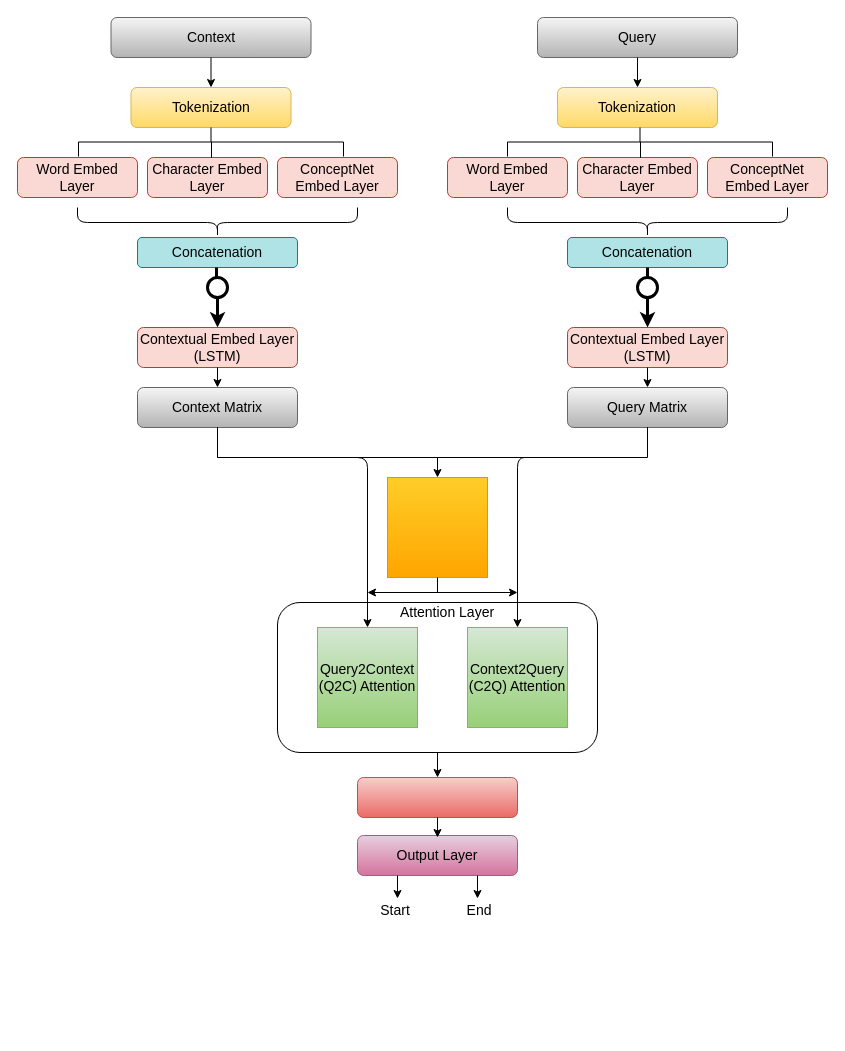
The diagram is 845 pixels wide and 1051 high, and some of its shapes have lost their labels. Here are the shapes that lost their labels. From the top down, the centre of each, then its label:
the point at 437,527: Formation of Similarity Matrix
the point at 437,797: Modeling Layer
